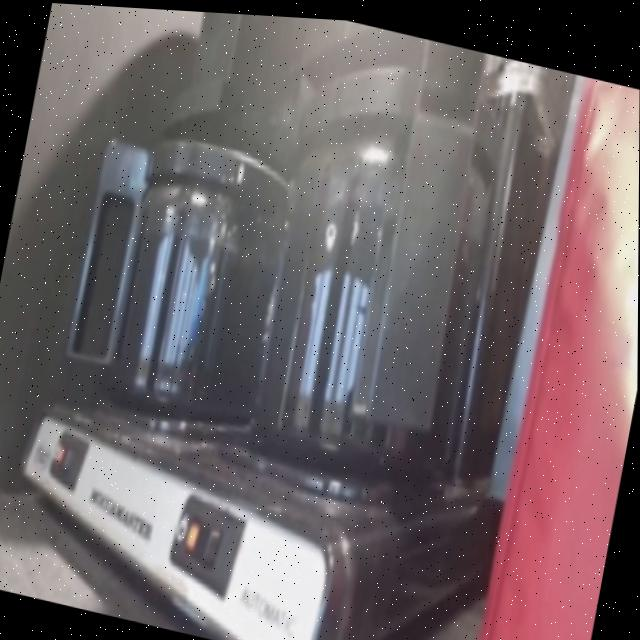coffee: (234, 38, 526, 500), (90, 101, 302, 441)
